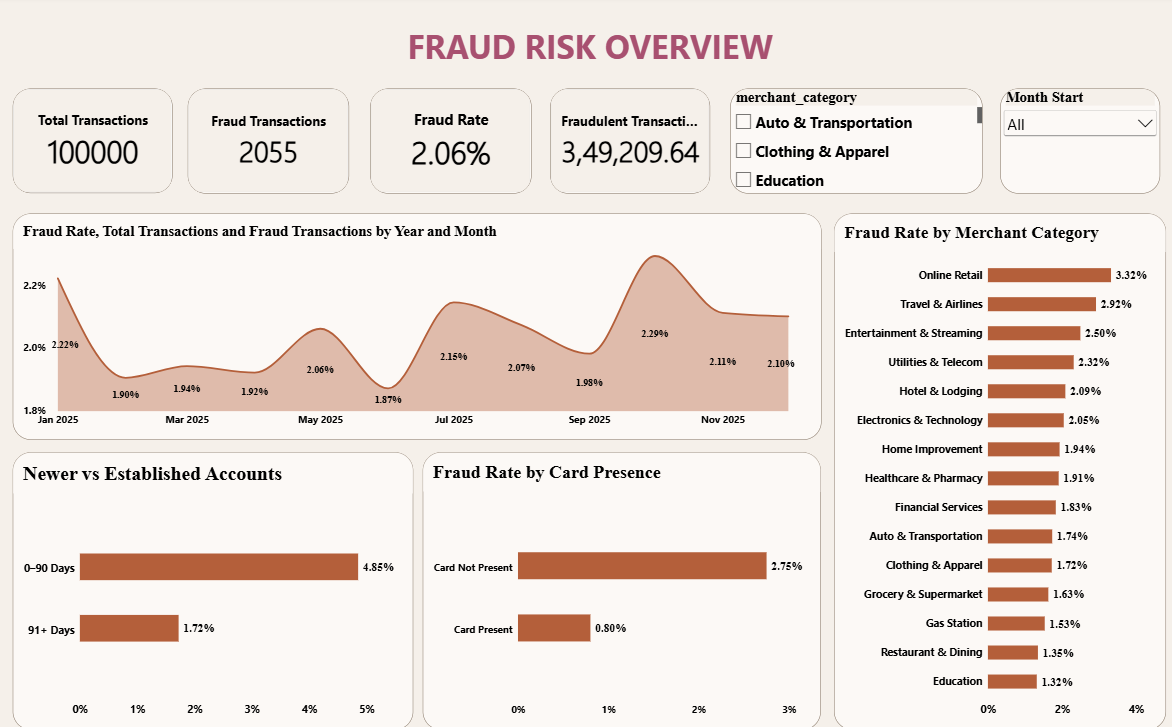

This screenshot's page, from the dashboard's own definition file:
{"tool":"powerbi","page":{"name":"Page 1","canvas":[1930,1200],"ordinal":0},"visuals":[{"type":"cardVisual","fields":{"Data":["Current_Dataset.Total Transactions"]},"box":[22.5,151.3,261.4,171.2],"z":0},{"type":"cardVisual","fields":{"Data":["Current_Dataset.Fraud Transactions"]},"box":[308.8,151.3,263.8,171.8],"z":1000},{"type":"cardVisual","fields":{"Data":["Current_Dataset.Fraud Rate"]},"box":[607.4,151.3,263.8,171.8],"z":2000},{"type":"cardVisual","fields":{"Data":["Current_Dataset.Fraudulent Transaction Amount"]},"box":[901.8,151.3,261.8,171.8],"z":3000},{"type":"stackedAreaChart","fields":{"Category":["Current_Dataset.Month Start.Variation.Date Hierarchy.Year","Current_Dataset.Month Start.Variation.Date Hierarchy.Month"],"Y":["Current_Dataset.Fraud Rate"]},"box":[22.5,355.8,1323.1,370.1],"z":4000},{"type":"clusteredBarChart","title":"Fraud Rate by Merchant Category","fields":{"Category":["Current_Dataset.merchant_category"],"Y":["Current_Dataset.Fraud Rate"]},"box":[1366.1,355.8,542.9,844.8],"z":5000},{"type":"clusteredBarChart","title":"Fraud Rate by Card Presence","fields":{"Category":["Current_Dataset.Card Status"],"Y":["Current_Dataset.Fraud Rate"]},"box":[693.3,746.4,651.5,454.6],"z":6000},{"type":"clusteredBarChart","title":"\tNewer vs Established Accounts","fields":{"Category":["Current_Dataset.Account Age Group"],"Y":["Current_Dataset.Fraud Rate"]},"box":[22.5,746.4,655.2,454.6],"z":7000},{"type":"slicer","fields":{"Values":["Current_Dataset.Month Start"]},"box":[1638,151.3,261.8,171.8],"z":8000},{"type":"slicer","fields":{"Values":["Current_Dataset.merchant_category"]},"box":[1196.3,151.3,413.1,171.8],"z":9000},{"type":"textbox","box":[22.3,44.5,1888.7,90.9],"z":10000}]}

Visuals, with their boxes in screenshot pixels (x1, y1, x2, y2), scaled from the page's 1930x1200 canvas onto the 1172x727 screenshot:
cardVisual - Current_Dataset.Total Transactions: select_region(14, 92, 172, 195)
cardVisual - Current_Dataset.Fraud Transactions: select_region(188, 92, 348, 196)
cardVisual - Current_Dataset.Fraud Rate: select_region(369, 92, 529, 196)
cardVisual - Current_Dataset.Fraudulent Transaction Amount: select_region(548, 92, 707, 196)
stackedAreaChart - Current_Dataset.Month Start.Variation.Date Hierarchy.Year x Current_Dataset.Month Start.Variation.Date Hierarchy.Month: select_region(14, 216, 817, 440)
"Fraud Rate by Merchant Category" clusteredBarChart: select_region(830, 216, 1159, 726)
"Fraud Rate by Card Presence" clusteredBarChart: select_region(421, 452, 817, 726)
"	Newer vs Established Accounts" clusteredBarChart: select_region(14, 452, 412, 726)
slicer - Current_Dataset.Month Start: select_region(995, 92, 1154, 196)
slicer - Current_Dataset.merchant_category: select_region(726, 92, 977, 196)
textbox: select_region(14, 27, 1160, 82)
